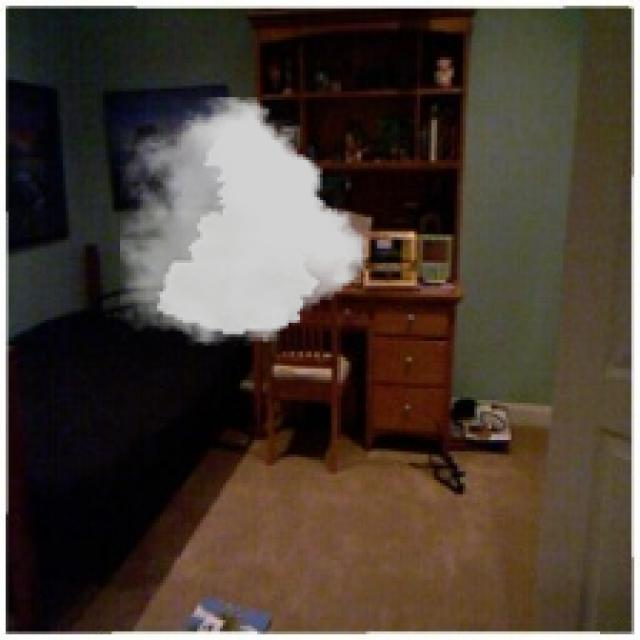Smoke: (120, 97, 366, 346)
